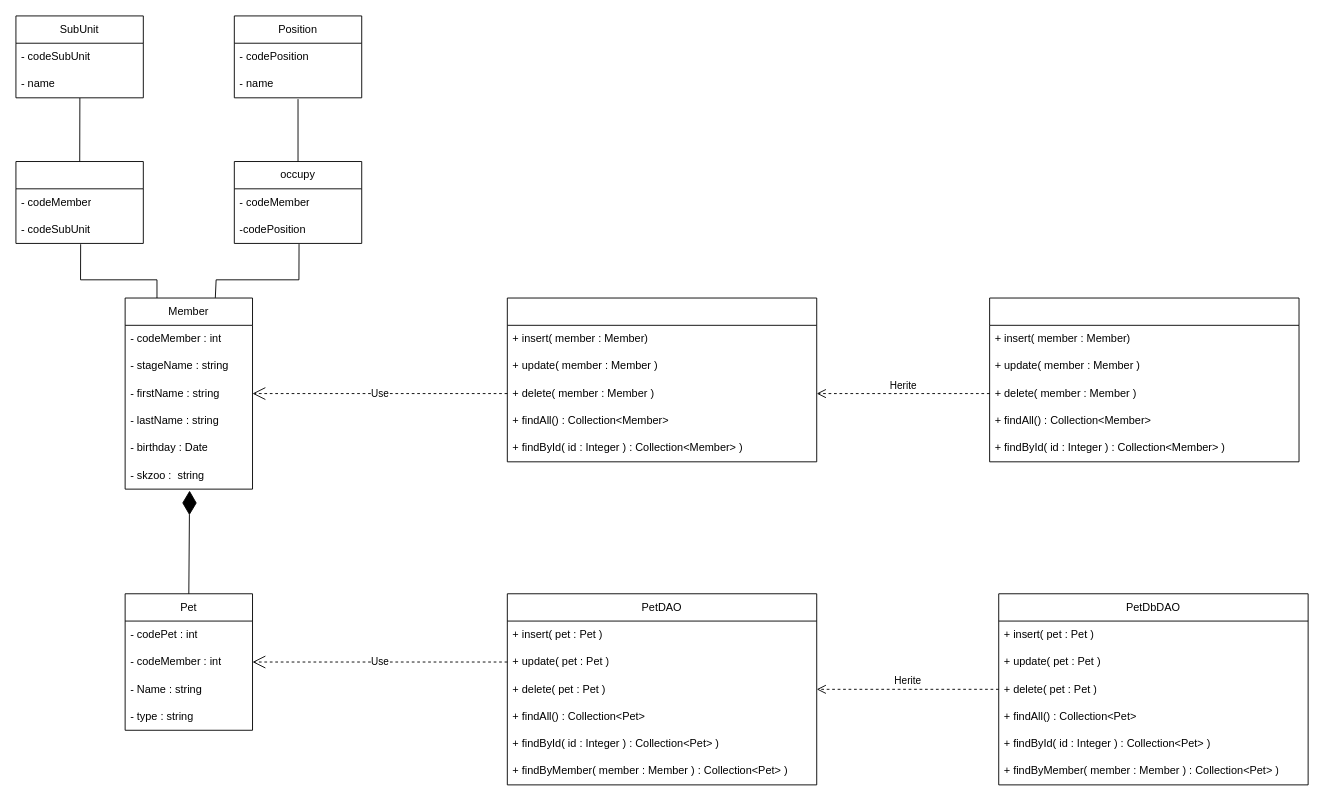
This 1324x801 diagram has some shape labels left out. The shapes that lost their labels are listed below. From the top down, each one's box as (x1, y1, x2, y2) in pixels, then its label:
(15, 161, 143, 243): Belong
(506, 297, 817, 462): MemberDAO
(989, 297, 1299, 462): MemberDbDAO
